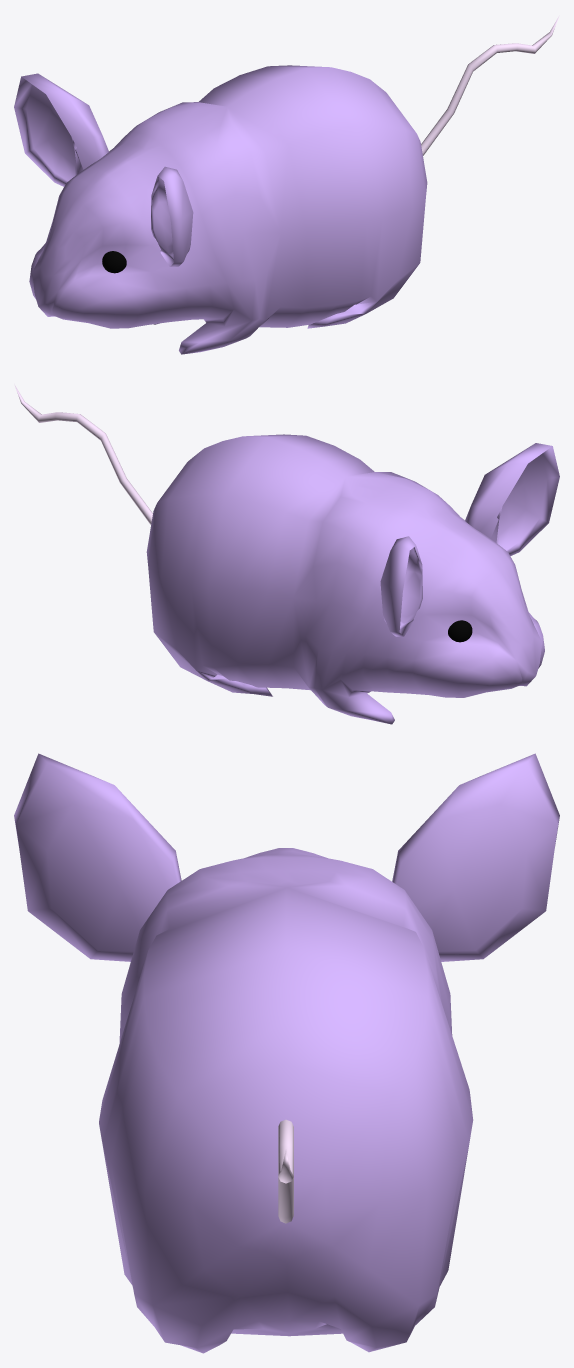
Rendered from nezumi.fbx.
3 renders of one model, top to bottom at view 1: azimuth 30°, elevation 25°; view 2: azimuth 150°, elevation 25°; view 3: azimuth 270°, elevation 25°, orthographic. The views are drawn at different scales.
Visible parts, largest first — view 1: pasted__pCube3, pasted__pasted__pCube2, sweep1, pasted__pSphere4; view 2: pasted__pCube3, pasted__pasted__pCube2, sweep1, pasted__pSphere3; view 3: pasted__pCube3, pasted__pasted__pCube2, sweep1.
Part boxes in pixels (bbox=[...]): pasted__pCube3: bbox=[29, 65, 427, 354]; pasted__pasted__pCube2: bbox=[14, 73, 193, 266]; sweep1: bbox=[421, 15, 559, 155]; pasted__pSphere4: bbox=[102, 251, 126, 273]; pasted__pCube3: bbox=[146, 434, 544, 724]; pasted__pasted__pCube2: bbox=[380, 443, 559, 636]; sweep1: bbox=[14, 384, 152, 524]; pasted__pSphere3: bbox=[448, 620, 472, 642]; pasted__pCube3: bbox=[99, 848, 473, 1353]; pasted__pasted__pCube2: bbox=[14, 753, 559, 961]; sweep1: bbox=[278, 1119, 293, 1223].
Size of the model in its own units: 5.47 by 2.39 by 2.85.
